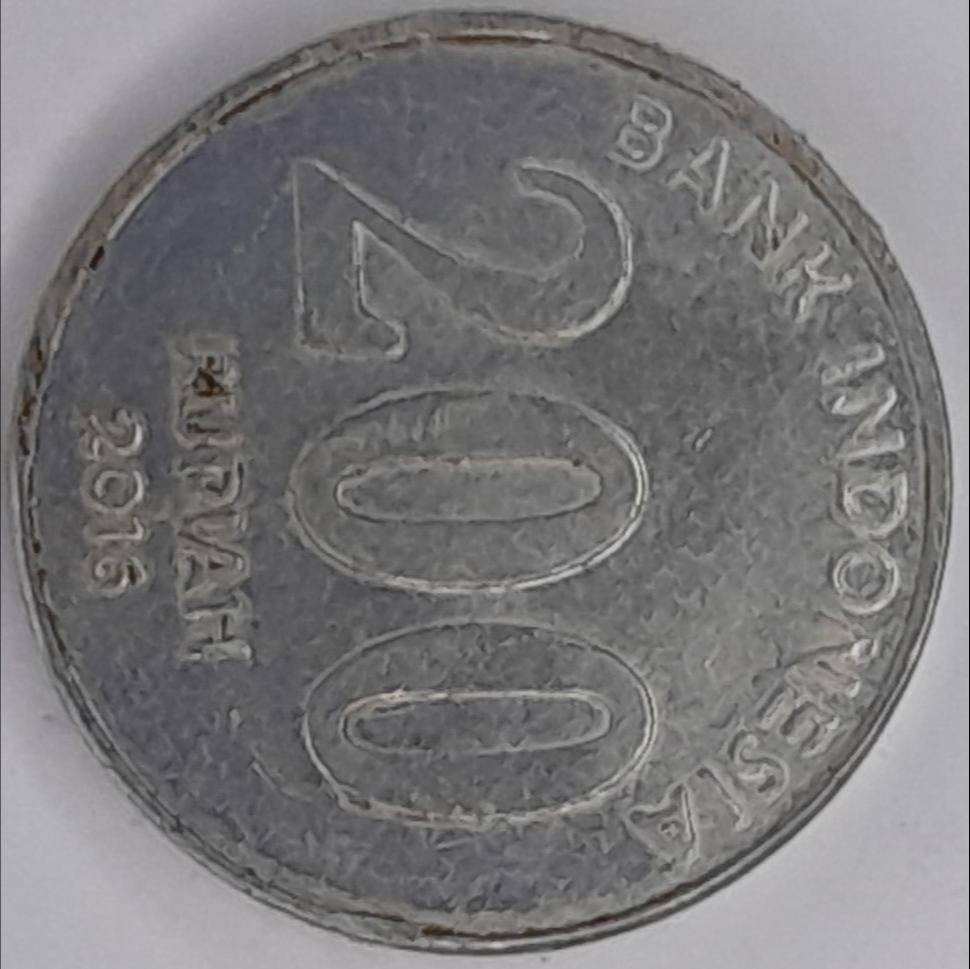coin_200_e2016: (0, 17, 970, 969)
